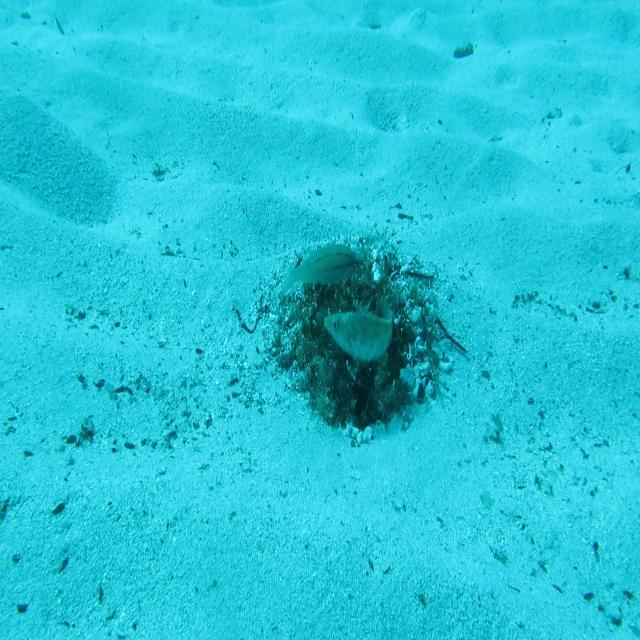DAN_CIRC: (322, 294, 397, 366)
female: (278, 241, 368, 302)
nest: (242, 218, 458, 471)
vegetation: (454, 40, 474, 60)
